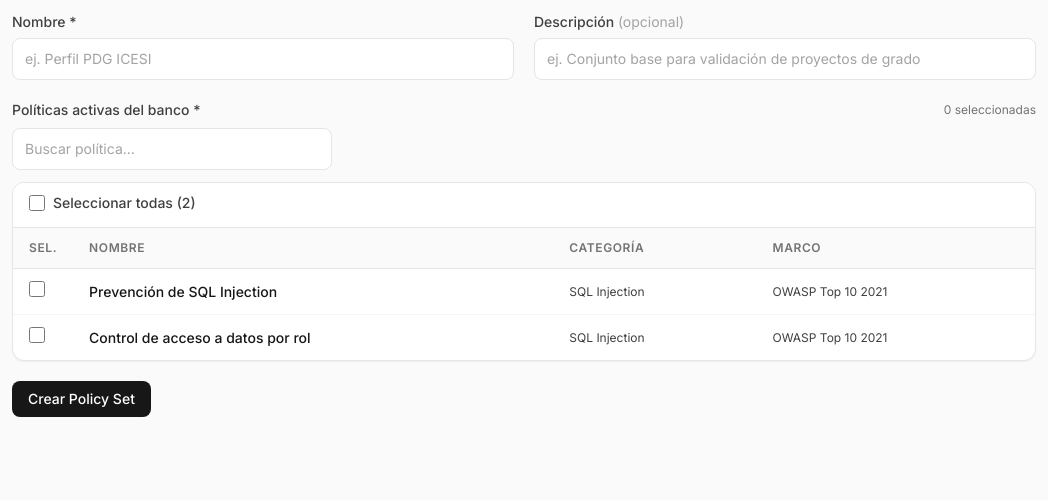
Test: PolicySetCreateForm › surfaces the backend validation message (e.g. an inactive/nonexistent policy) as a server error
Check: the text "Prevención de SQL Injection" is shown, box [73,269,553,314]
Type "Set X" into the field labelled "Nombre *" at {"x": 263, "y": 59}, box [12,38,514,80]
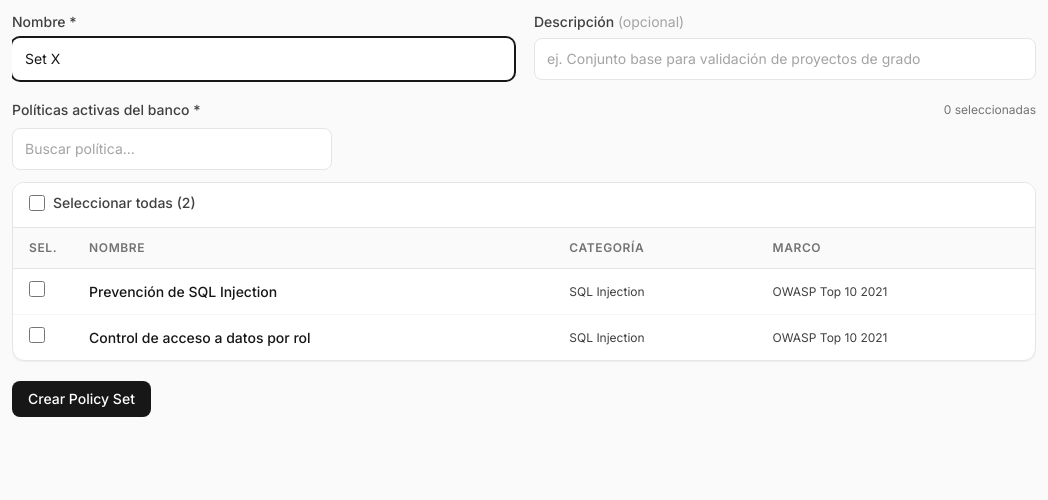
Click the checkbox named "Prevención de SQL Injection" at {"x": 37, "y": 289}, box [29,281,45,297]
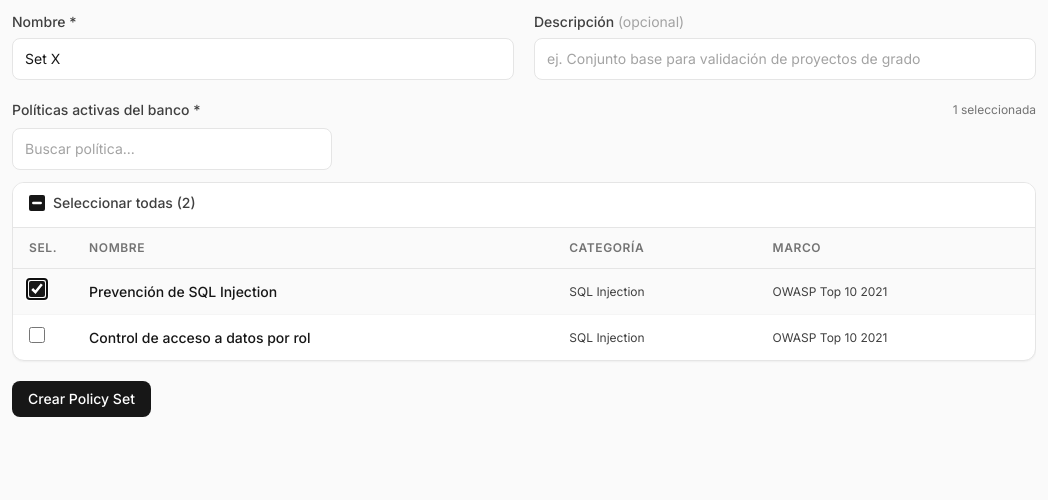
Click the button "Crear Policy Set" at {"x": 81, "y": 399}, box [12,381,151,417]
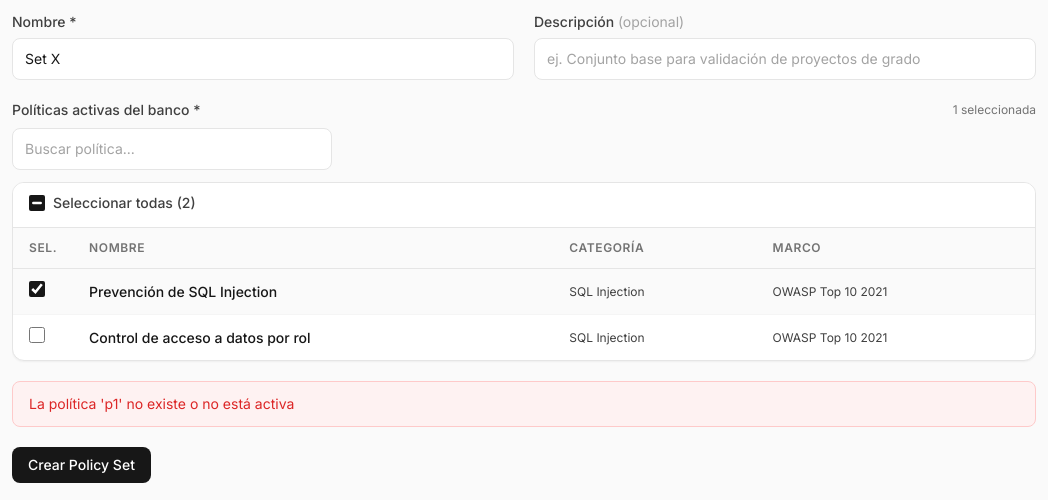
Check: the text "La política 'p1' no existe o no está activa" is shown, box [12,381,1036,427]
